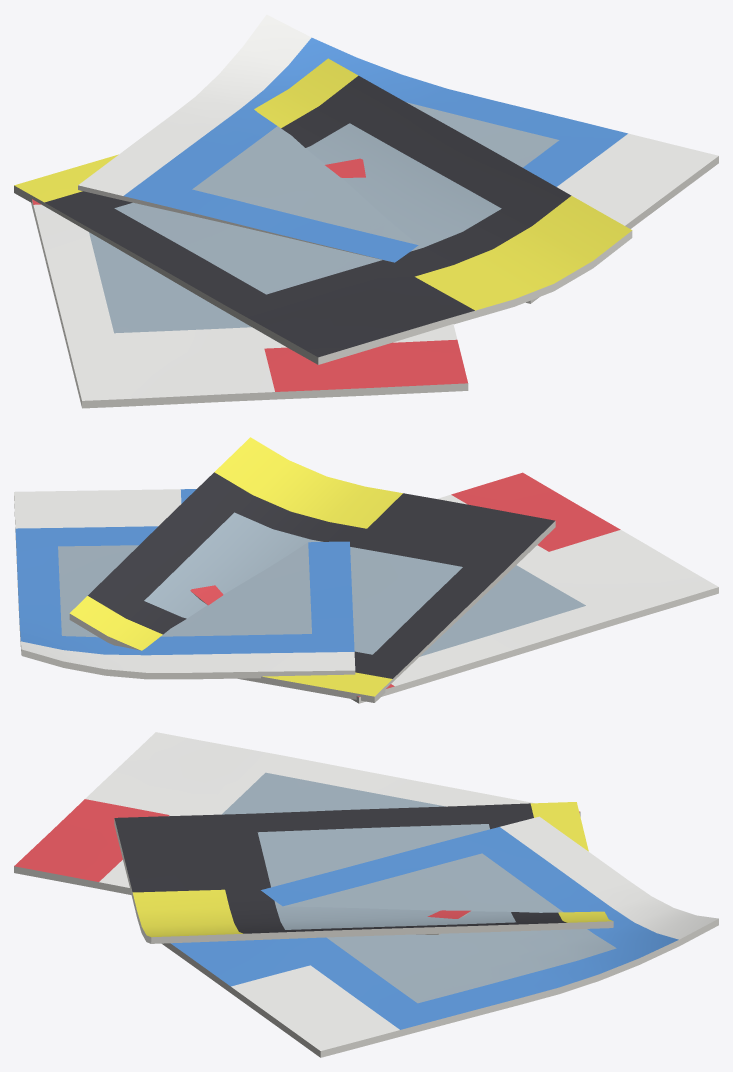
File: paper_magazines_messy.fbx
3 renders of one model, top to bottom at view 1: azimuth 30°, elevation 25°; view 2: azimuth 150°, elevation 25°; view 3: azimuth 270°, elevation 25°, orthographic. The views are drawn at different scales.
Parts seen in each view (by area): view 1: paper_magazines_messy; view 2: paper_magazines_messy; view 3: paper_magazines_messy.
Boxes of the visible parts, x1,y1,x2,y2 form: paper_magazines_messy: (14, 14, 718, 408); paper_magazines_messy: (14, 437, 718, 703); paper_magazines_messy: (14, 732, 718, 1057).
Size of the model in its own units: 0.455 by 0.0278 by 0.4246.
